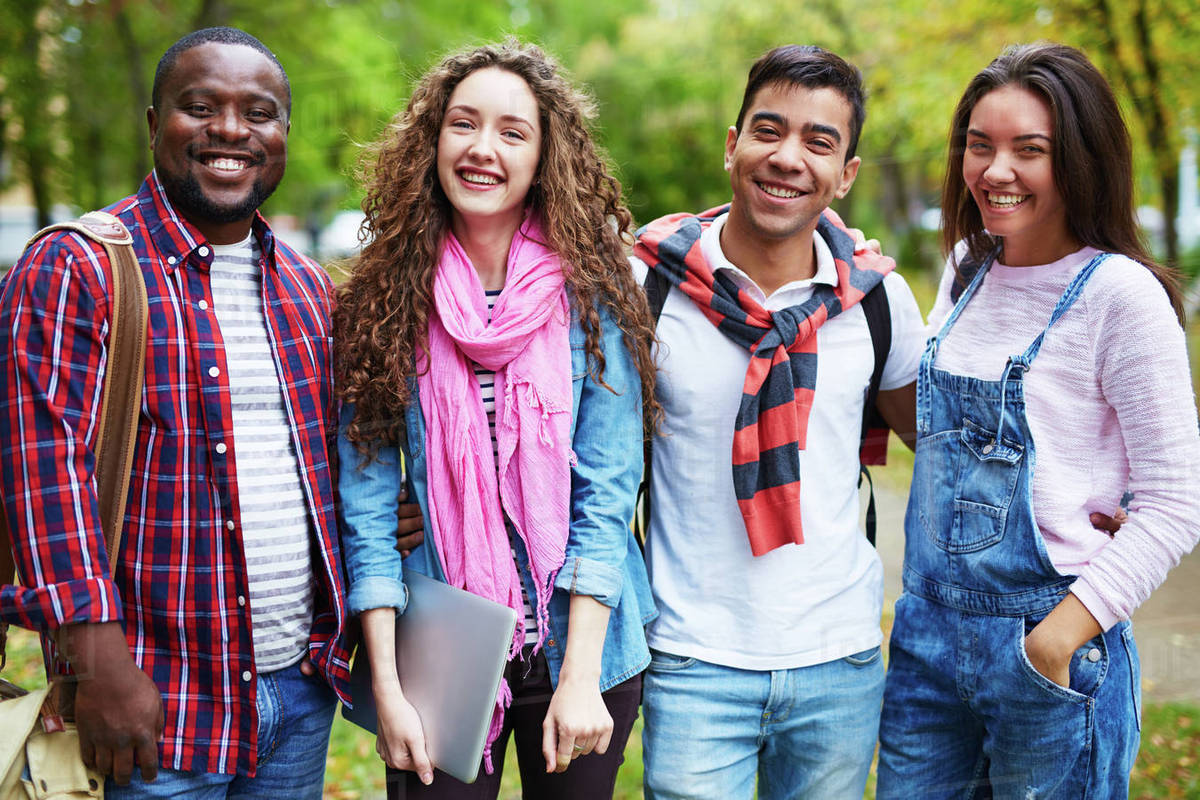Person: (341, 46, 629, 787), (23, 40, 300, 793), (906, 46, 1188, 776), (647, 64, 900, 793)
